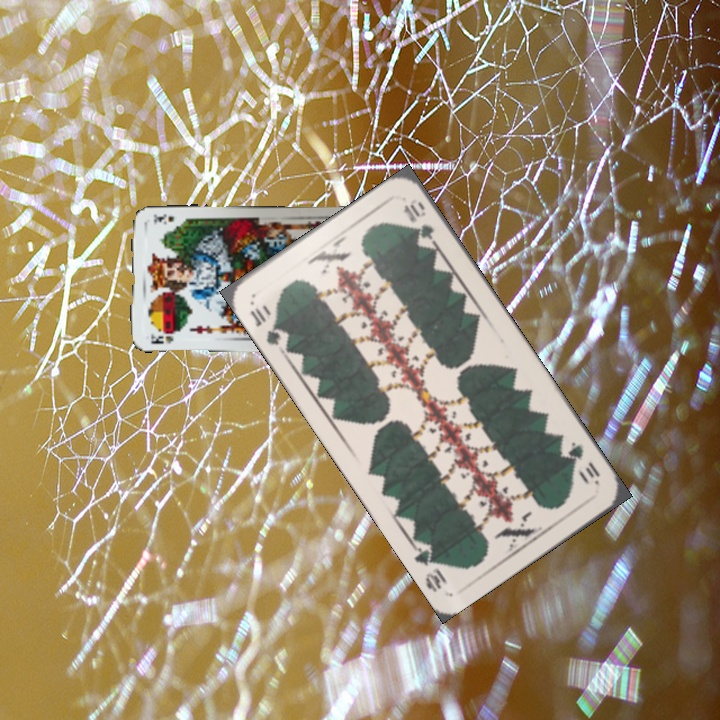G10: (563, 437, 603, 488), (246, 303, 288, 349)
SK: (147, 330, 176, 347)
